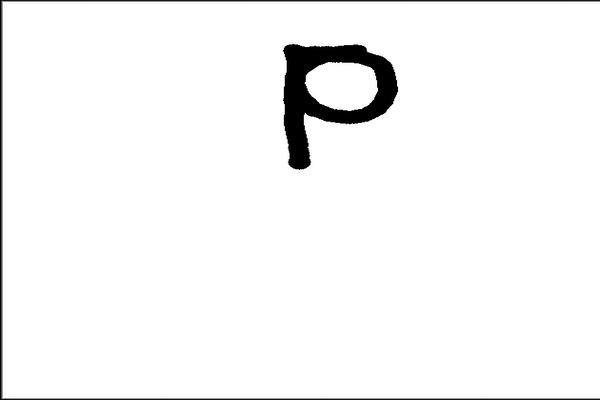P: (260, 33, 399, 182)
